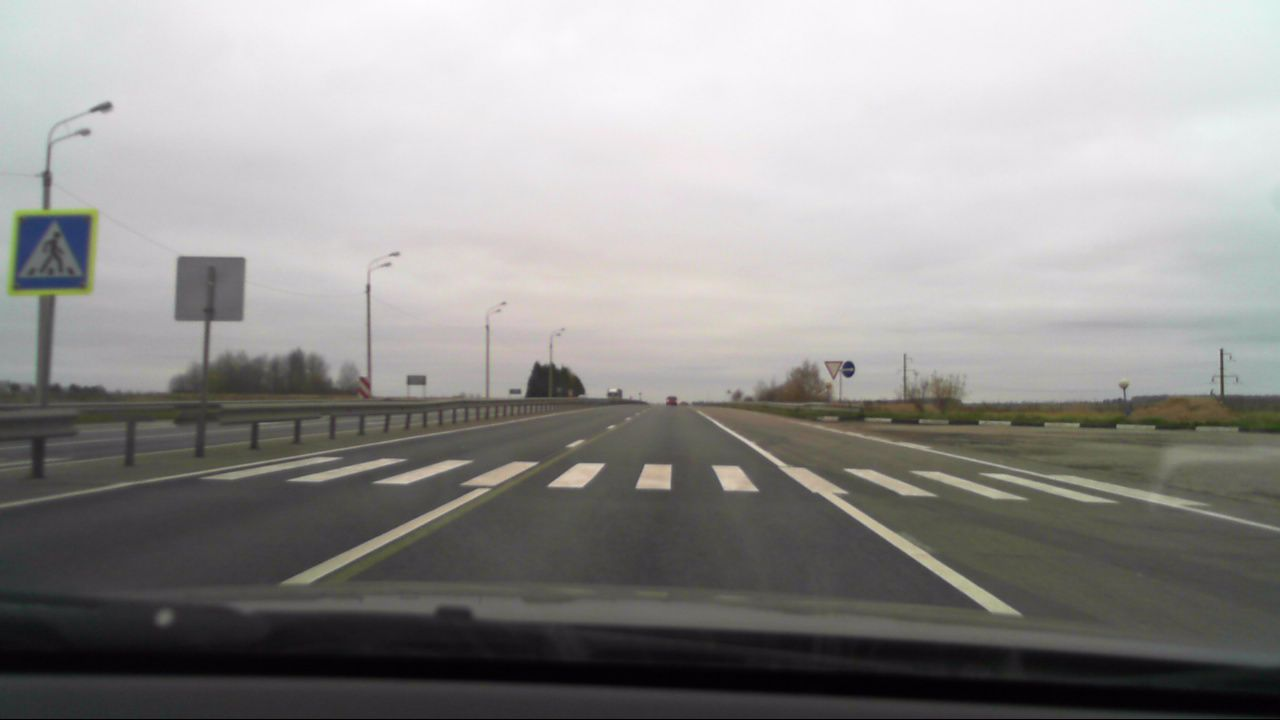Turn Right: (842, 361, 855, 378)
